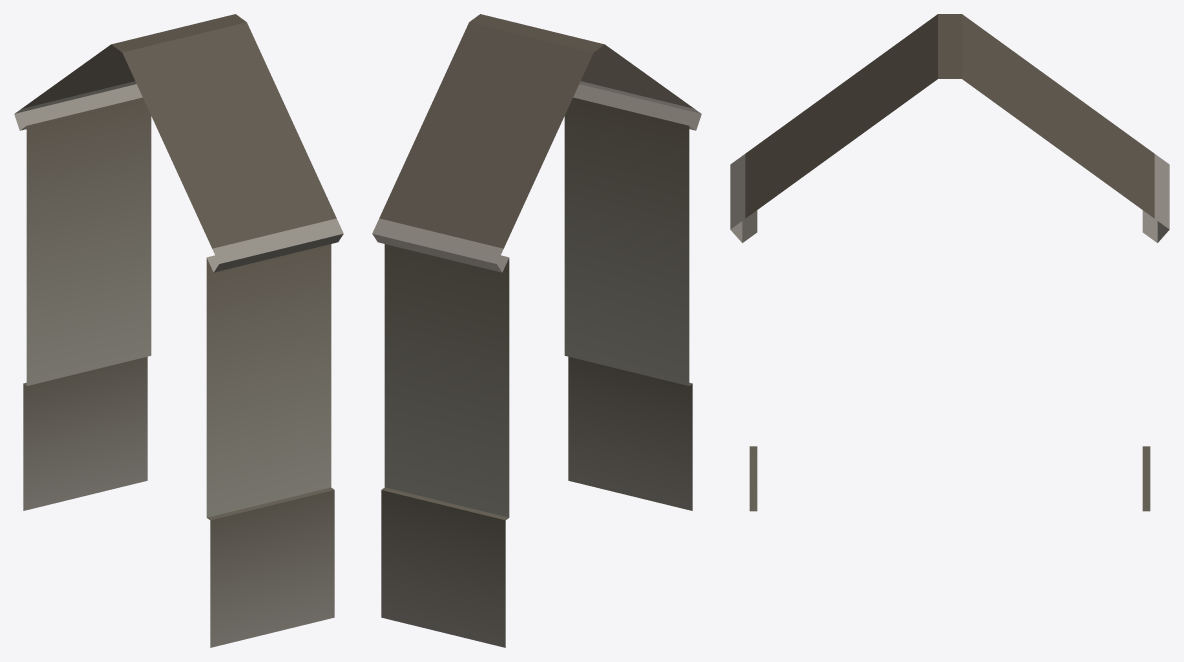
Rendered from Buffer-1Story_A.fbx.
3 views of the same model, side by side, from view 1: azimuth 30°, elevation 25°; view 2: azimuth 150°, elevation 25°; view 3: azimuth 270°, elevation 25° (orthographic). The views are drawn at different scales.
Parts seen in each view (by area): view 1: Buffer-1Story_A; view 2: Buffer-1Story_A; view 3: Buffer-1Story_A.
Part boxes in pixels (x1,y1,x2,y2): Buffer-1Story_A: [14, 14, 343, 647]; Buffer-1Story_A: [372, 14, 701, 647]; Buffer-1Story_A: [730, 14, 1169, 511].
Bounding box in the file's own units: 200 × 815 × 570.
